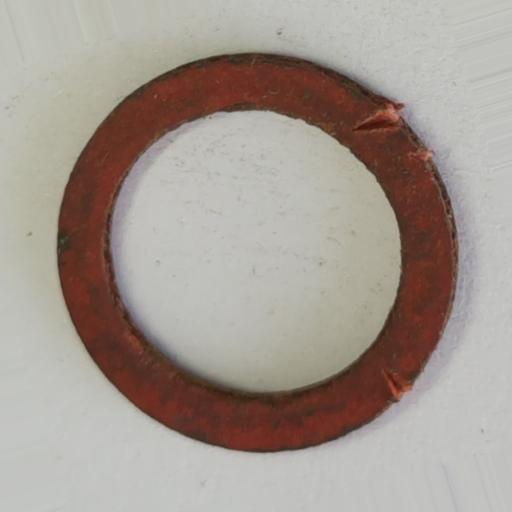defect: (354, 104, 403, 131), (384, 368, 411, 401)
